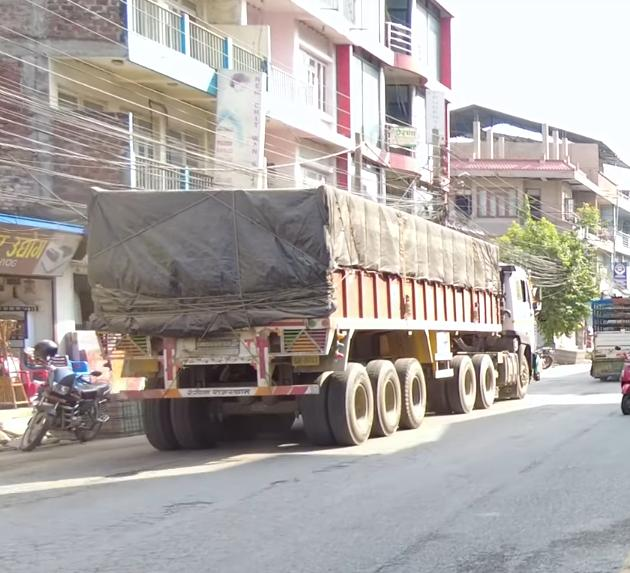bike: (18, 340, 111, 451)
scooter: (609, 344, 630, 417)
transport_vehicle: (584, 288, 630, 382)
truck: (85, 183, 543, 451)
